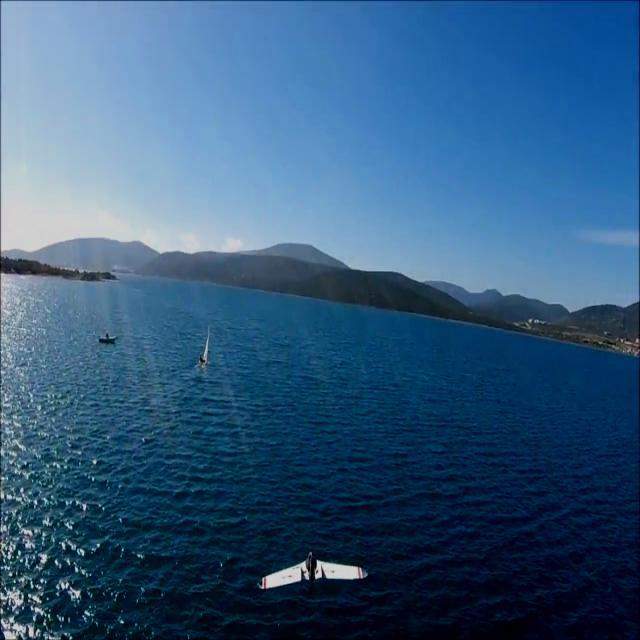iha: (288, 571, 338, 574)
